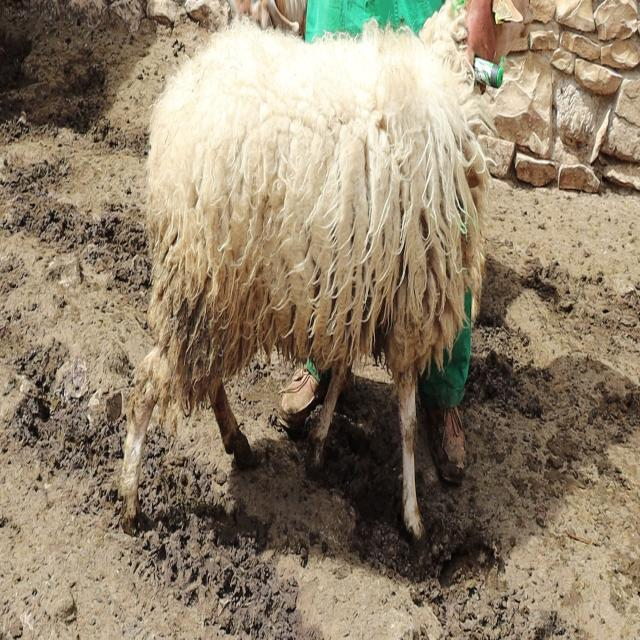Score_4: (119, 2, 497, 537)
